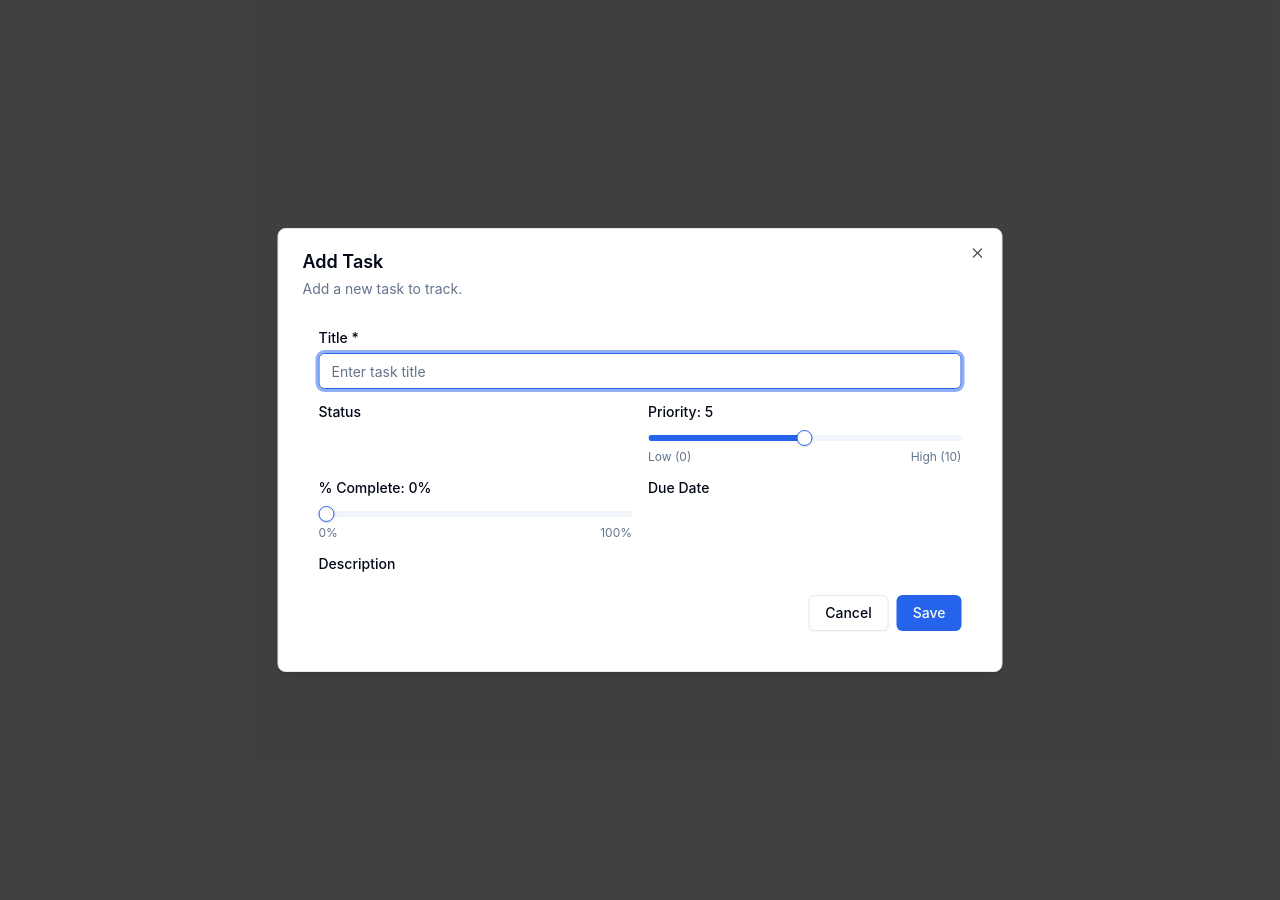
TaskForm Component › Add Task Mode › should validate title minimum length
In the field labelled "Title *": (640, 371) [318, 353, 962, 389], type "A"
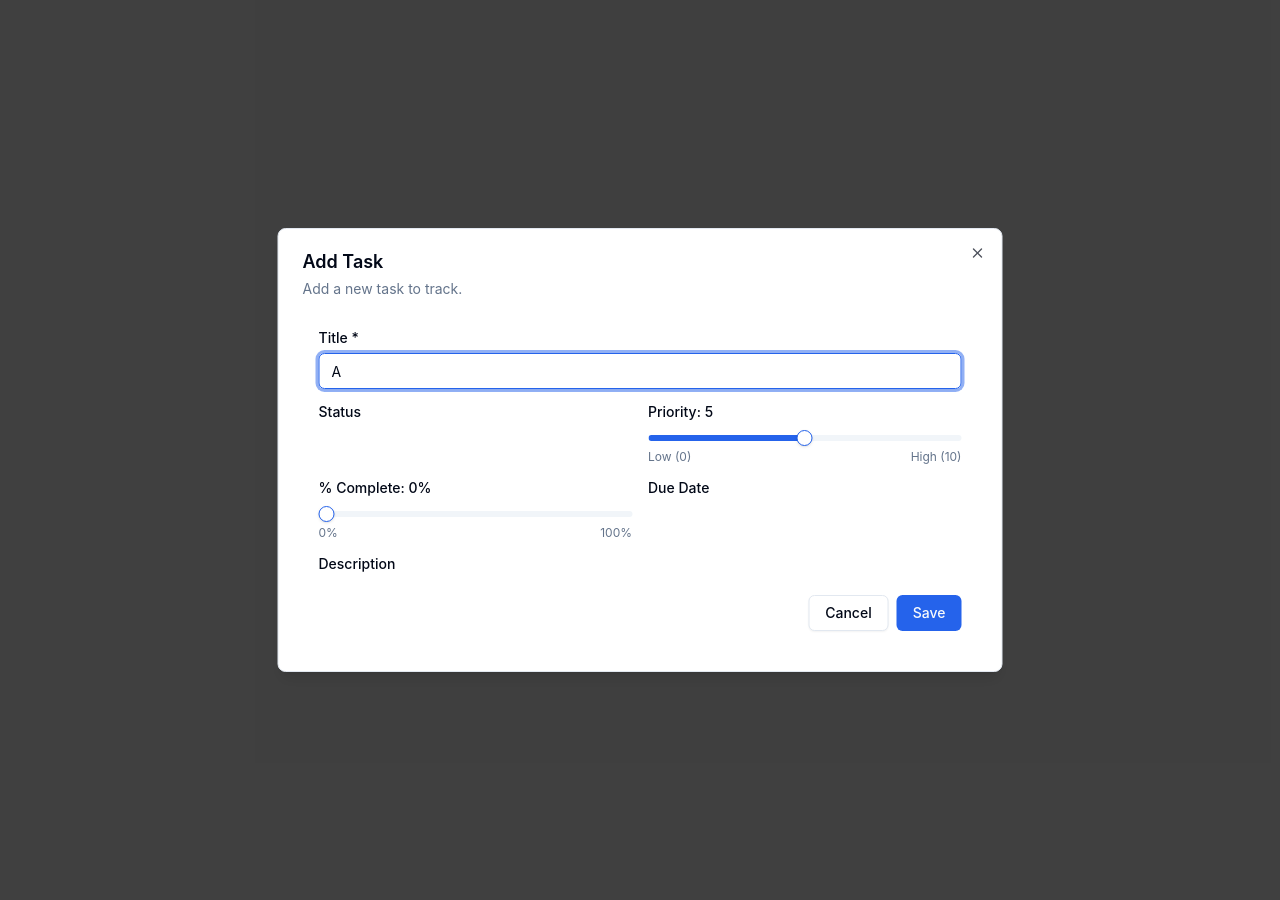
Click the button with test id "save-task-btn": (929, 613) [897, 595, 962, 631]
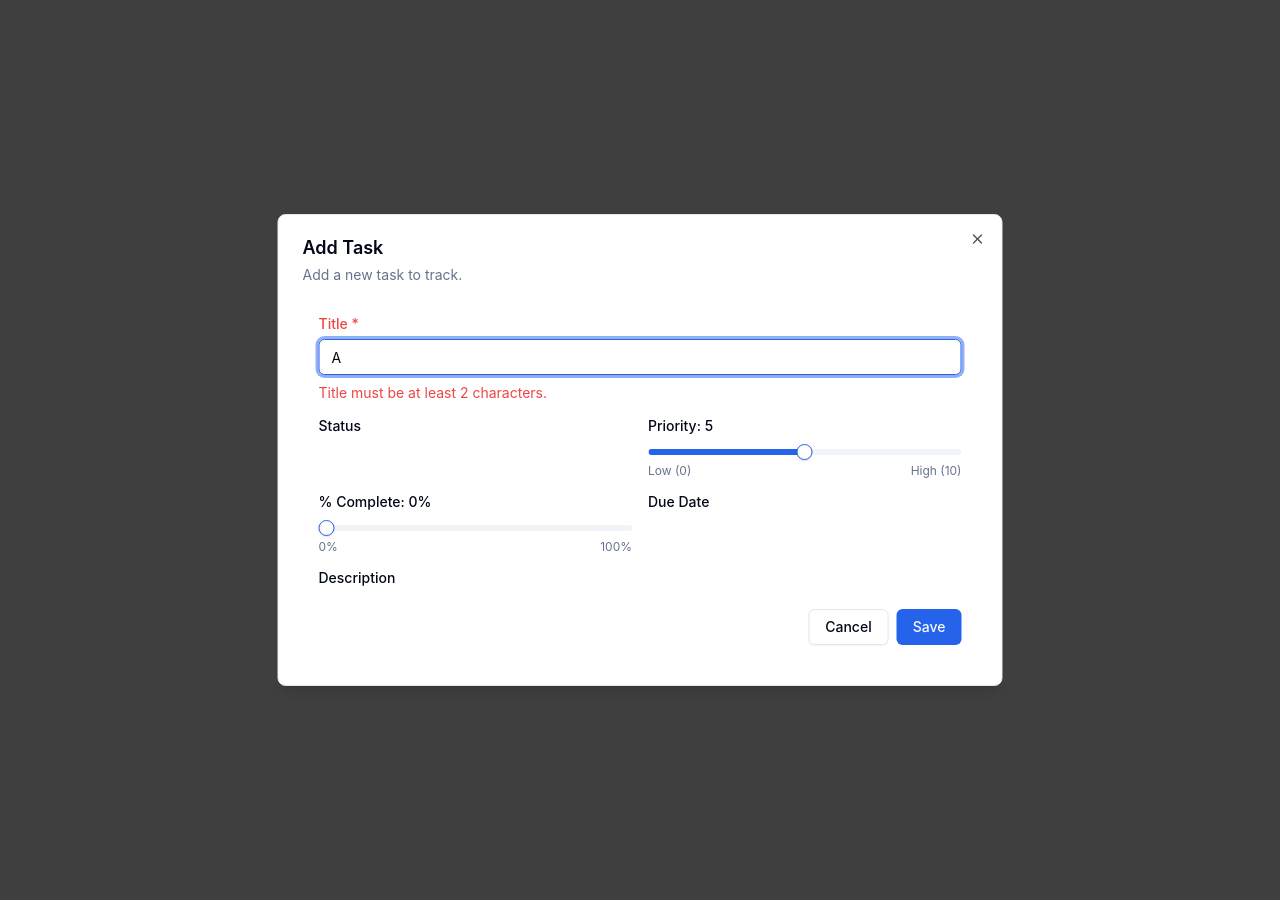
Expected: the text "Title must be at least 2 characters." is shown, [318, 384, 547, 401]
